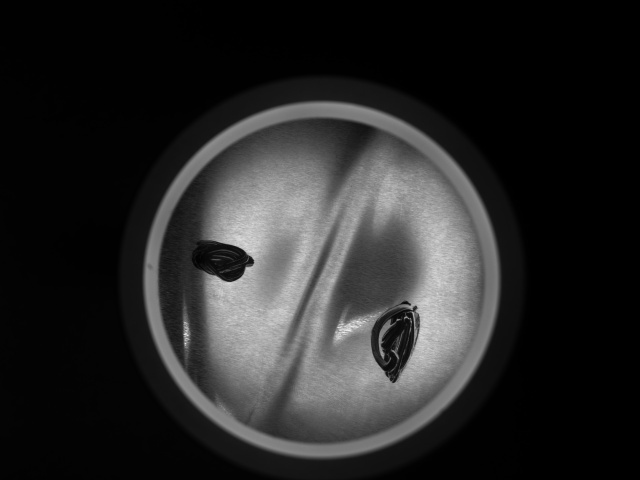zang_wu: (370, 298, 421, 385), (187, 234, 259, 282)
zhe_zhou: (208, 142, 437, 418)
